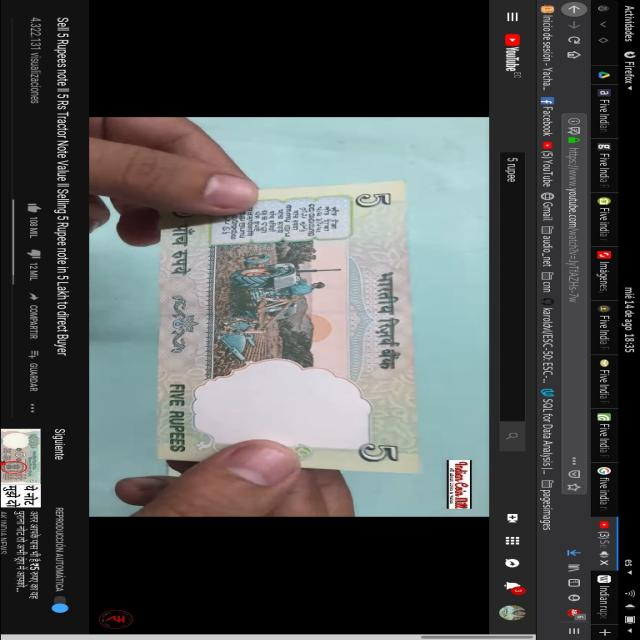5IndianRupees: (168, 182, 412, 474)
